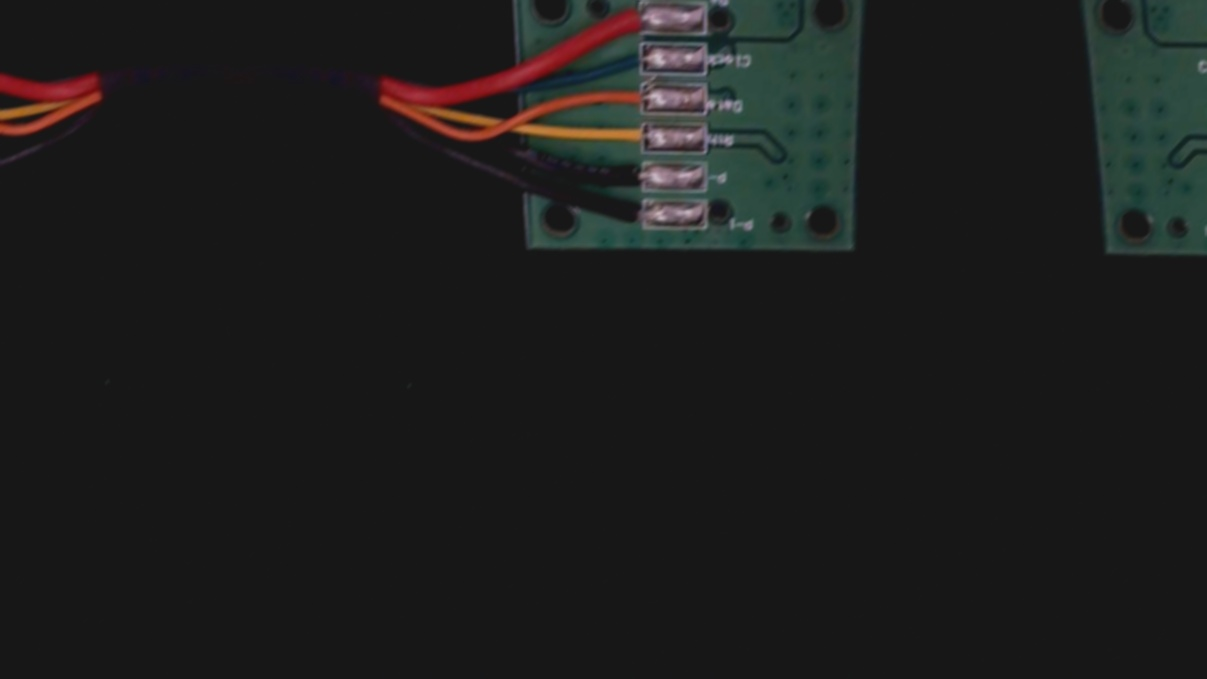Black: (590, 158, 666, 193)
Black1: (594, 200, 664, 234)
Green: (604, 44, 667, 76)
Orange: (591, 83, 667, 117)
Red: (597, 0, 661, 33)
Yellow: (589, 121, 666, 156)
